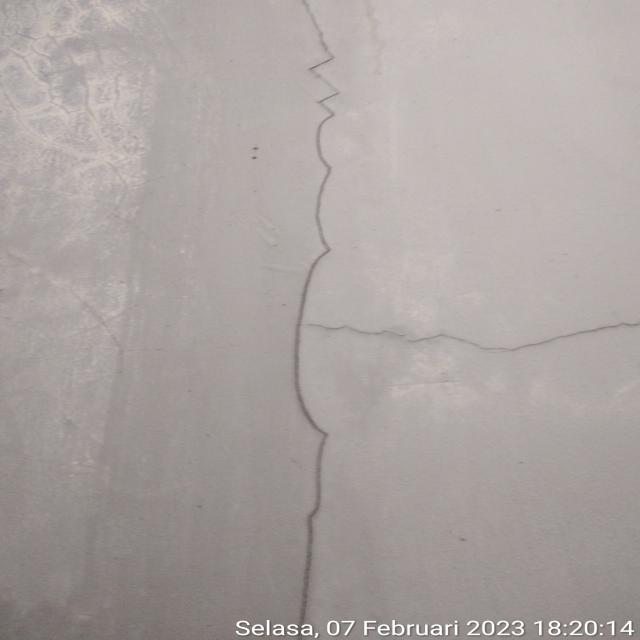Crack: (282, 2, 342, 617)
